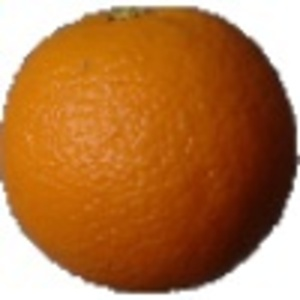laranja: (1, 3, 296, 292)
